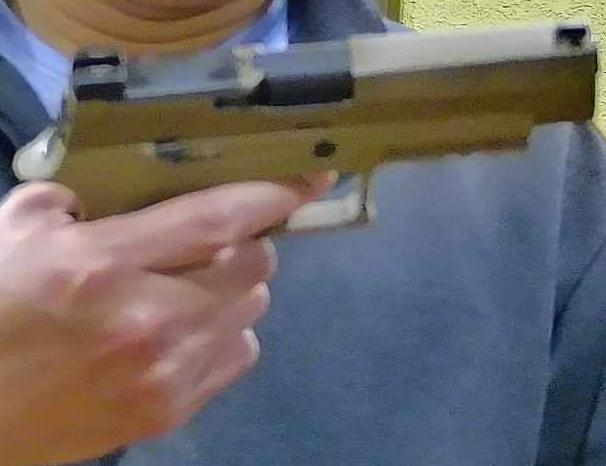gun: (1, 1, 606, 466)
